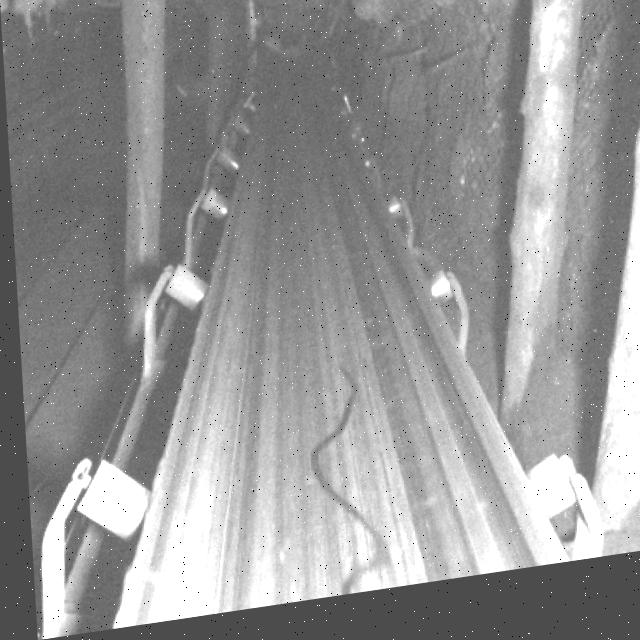bolt: (297, 364, 387, 608)
